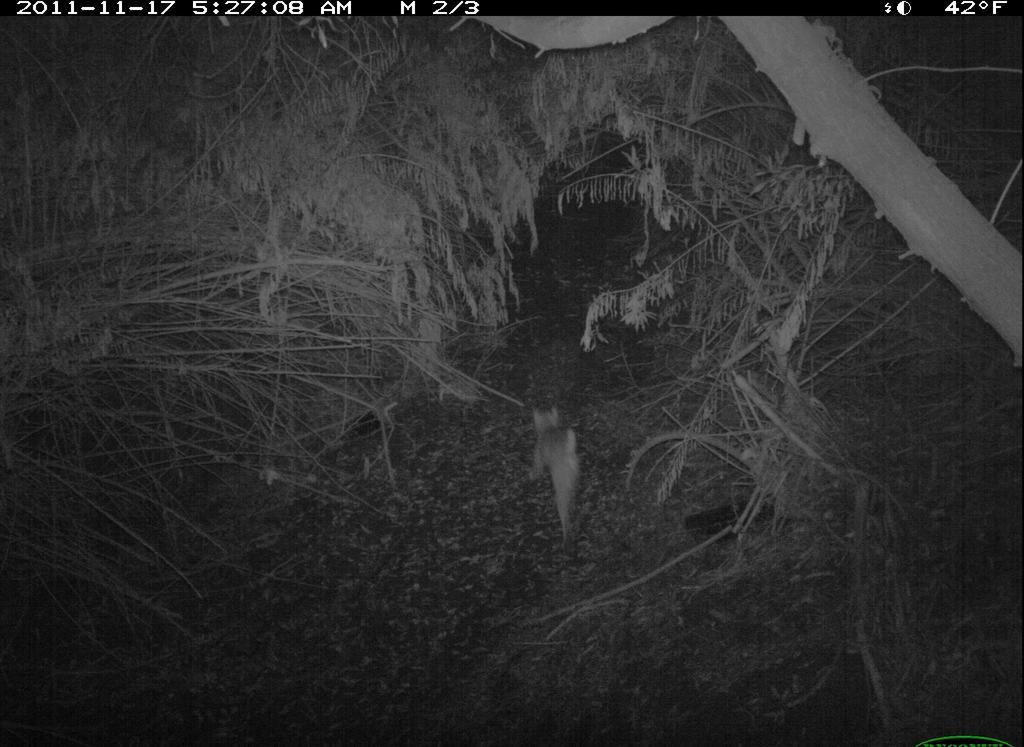bobcat: (515, 399, 615, 569)
